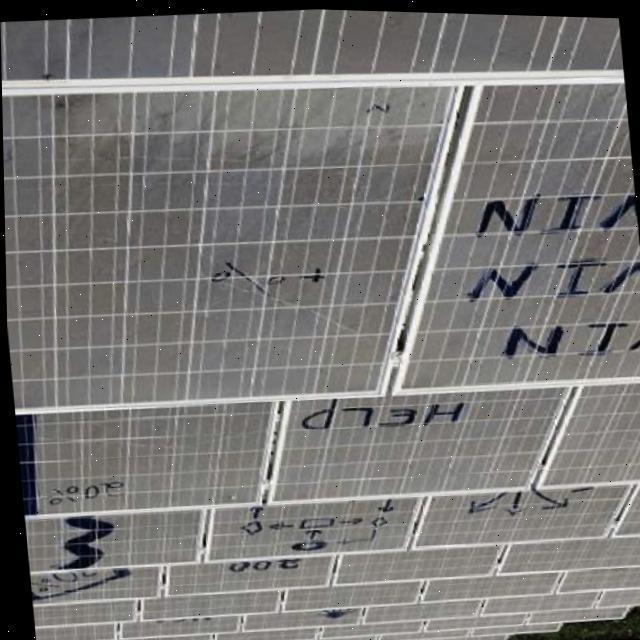Surface Contaminant: (0, 0, 640, 640), (26, 402, 279, 517)
